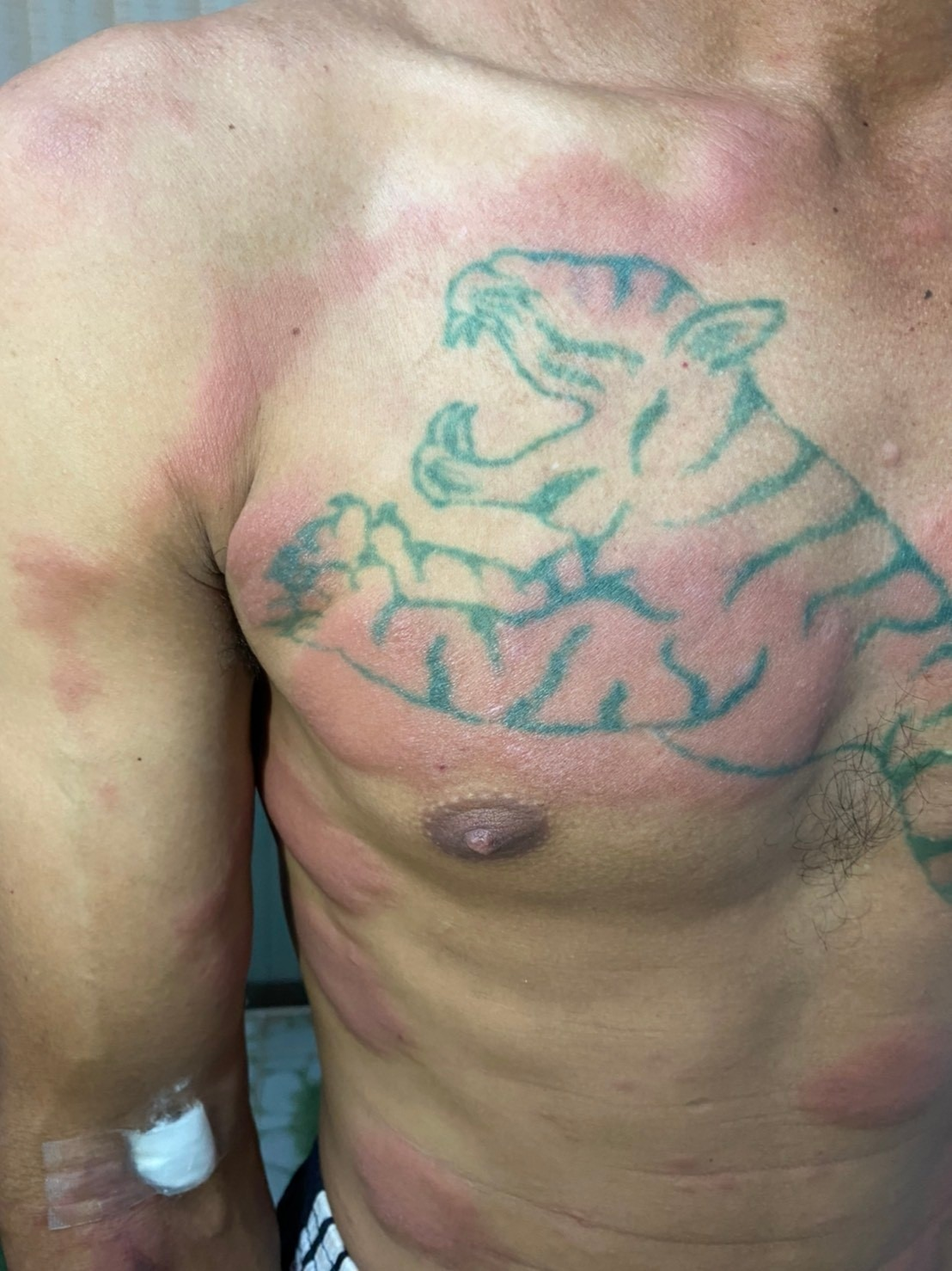Leprosy: (326, 1093, 546, 1267), (2, 522, 131, 718), (289, 899, 428, 1071), (262, 757, 404, 921), (793, 1033, 951, 1145)
